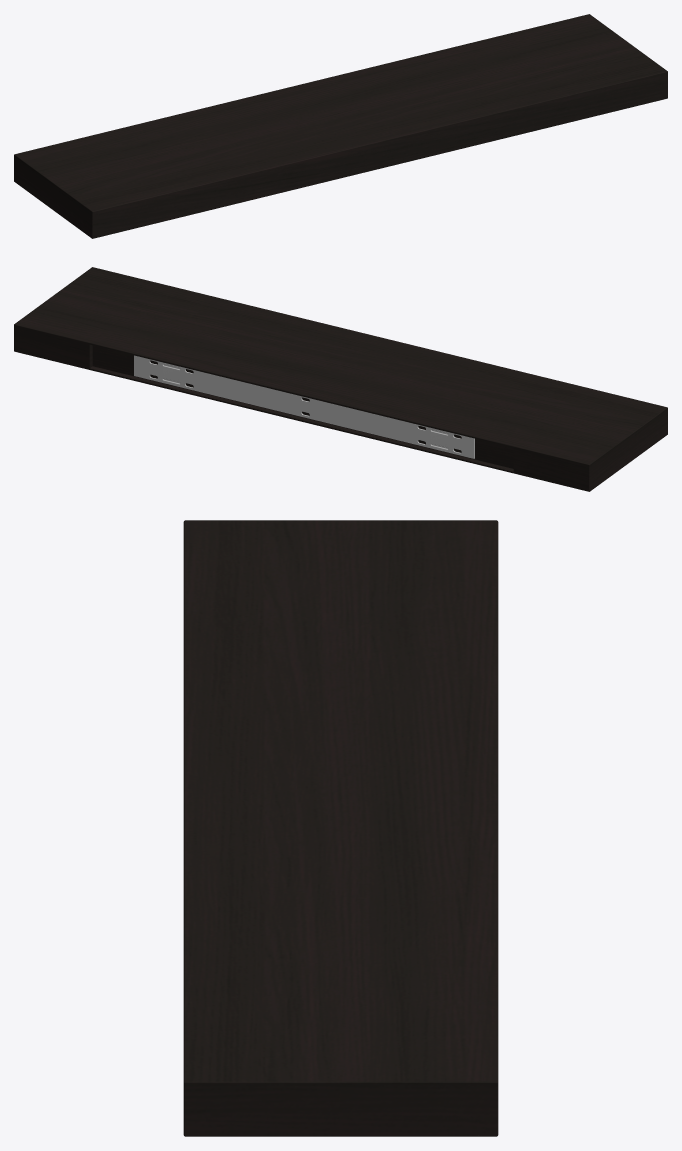
Rendered from 02 - LACK Wall shelf - black-brown 110x26 cm.glb.
3 views of the same model, one above another, from view 1: azimuth 30°, elevation 25°; view 2: azimuth 150°, elevation 25°; view 3: azimuth 270°, elevation 25° (orthographic). The views are drawn at different scales.
Parts seen in each view (by area): view 1: model; view 2: model; view 3: model.
Part boxes in pixels (<box>): model: <box>14,14,667,238</box>; model: <box>14,267,667,491</box>; model: <box>183,520,498,1136</box>.
Bounding box in the file's own units: 1.1 × 0.05 × 0.26.
1 material, 1 textured.
